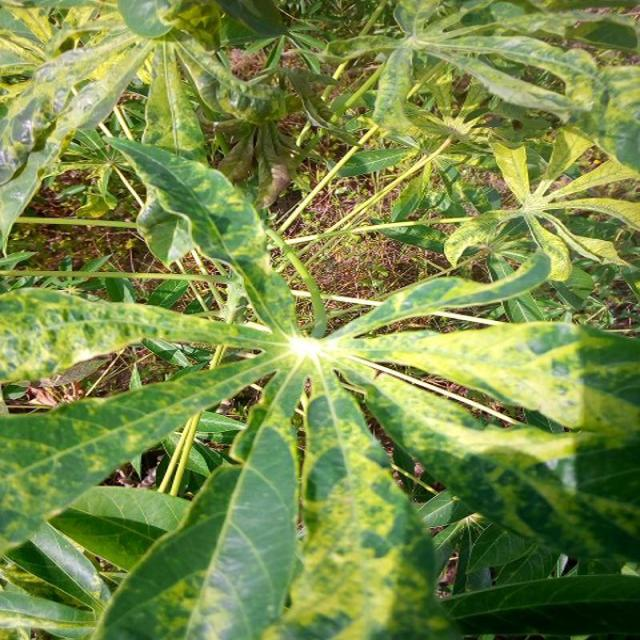cassava leaf: (0, 129, 638, 637), (106, 133, 298, 338)
